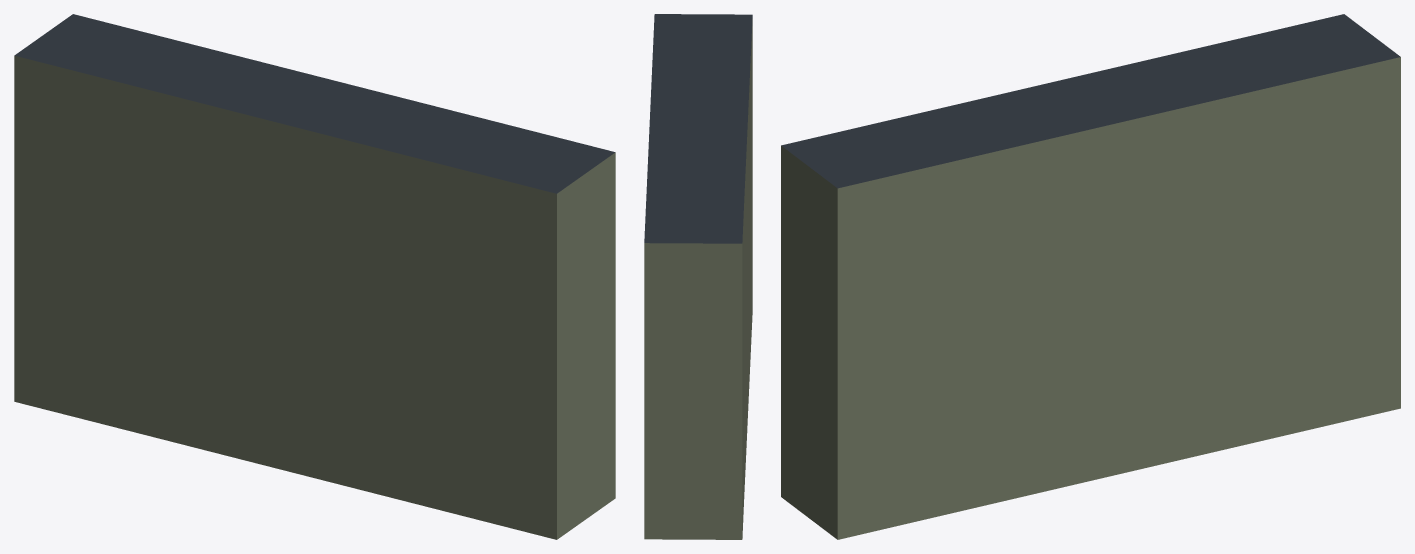
The model's file is nyc-1016017-0.glb.
3 renders of one model, left to right at view 1: azimuth 30°, elevation 25°; view 2: azimuth 150°, elevation 25°; view 3: azimuth 270°, elevation 25°, orthographic. The views are drawn at different scales.
Parts seen in each view (by area): view 1: nyc-1016017-0; view 2: nyc-1016017-0; view 3: nyc-1016017-0.
Part boxes in pixels (box(x1,y1,x2,y2)): nyc-1016017-0: box(14, 14, 615, 539); nyc-1016017-0: box(644, 14, 752, 539); nyc-1016017-0: box(781, 14, 1400, 539).
Bounding box in the file's own units: 20.01 × 18.8 × 30.05.
